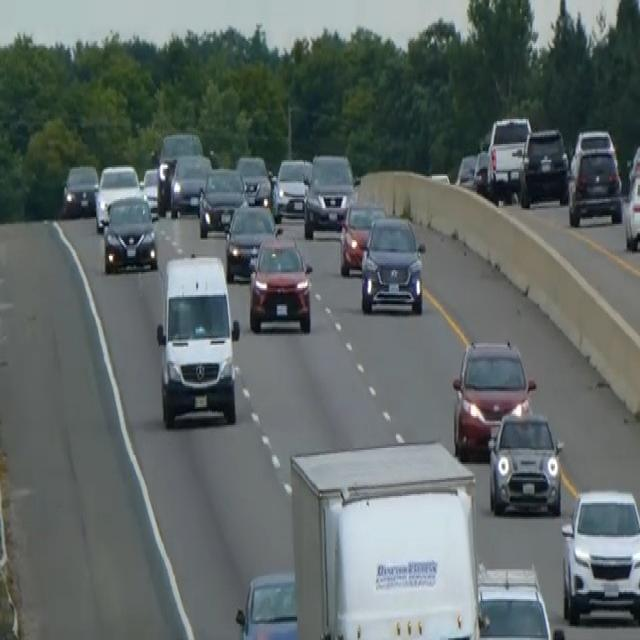car: (560, 485, 639, 626), (451, 336, 536, 459), (487, 406, 564, 516), (474, 562, 564, 638), (247, 231, 313, 334), (360, 213, 426, 315), (302, 151, 356, 238), (102, 192, 158, 274), (223, 199, 279, 281), (567, 144, 622, 226), (234, 569, 299, 638), (517, 124, 569, 208), (155, 130, 202, 212), (486, 114, 531, 199), (338, 198, 386, 276), (197, 164, 248, 236), (94, 162, 141, 231), (168, 151, 212, 217), (274, 155, 312, 217), (235, 153, 273, 208), (61, 162, 98, 217), (621, 169, 639, 251), (140, 166, 161, 213), (455, 151, 478, 190), (627, 139, 639, 185)
lorry: (287, 436, 483, 638)
minibus: (154, 251, 241, 428)
